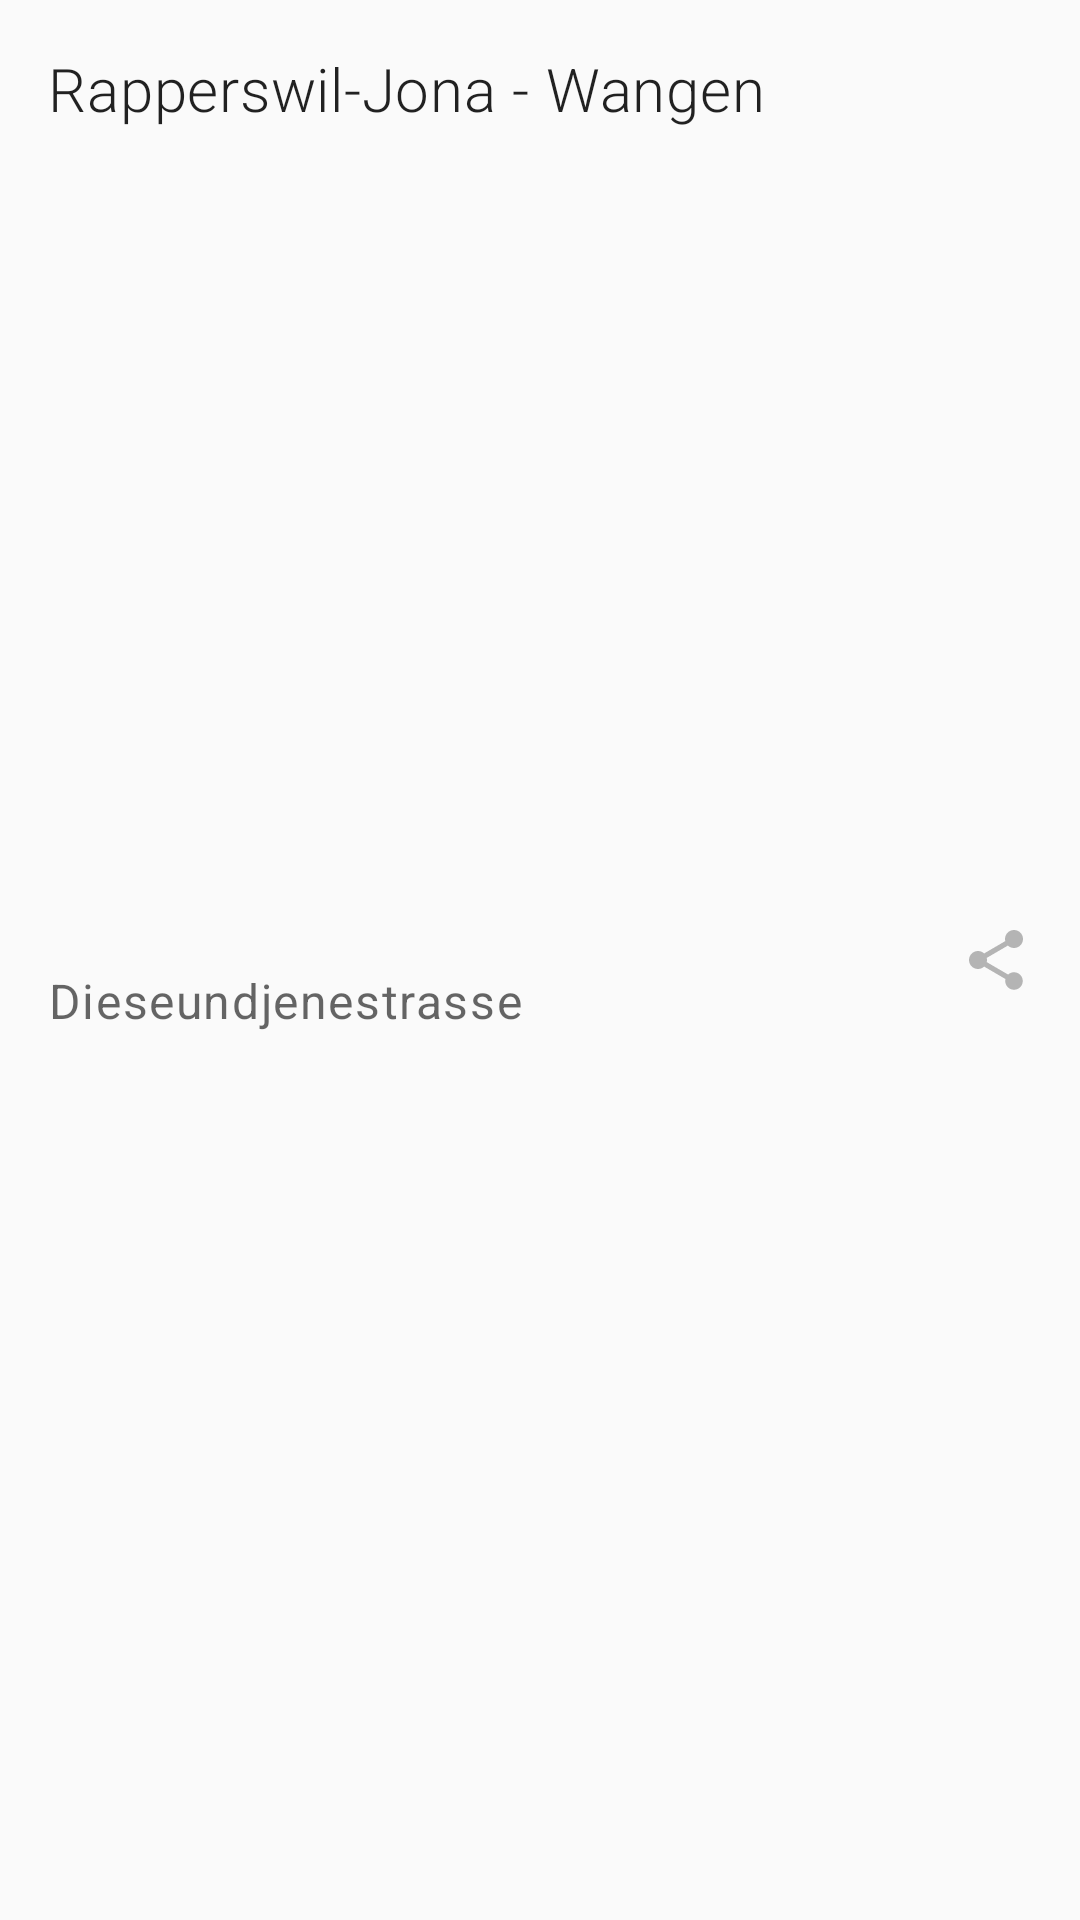

Where to tap for icons on this 1080 × 1920 app screen, as (x,y):
share: (996,960)
